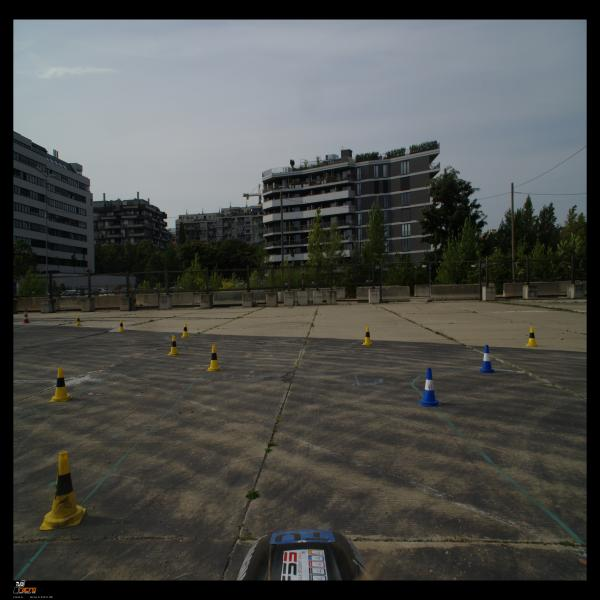blue_cone: (417, 368, 442, 407), (478, 345, 495, 373)
large_orange_cone: (22, 308, 31, 323)
yellow_cone: (39, 452, 86, 530), (49, 367, 72, 402), (206, 345, 223, 371), (525, 326, 539, 347), (361, 326, 374, 346), (168, 335, 180, 356), (181, 323, 190, 338), (117, 319, 126, 332), (75, 315, 82, 326)
